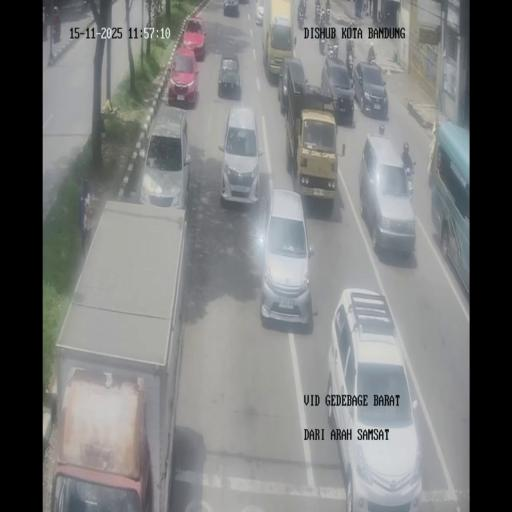3: (51, 196, 188, 506), (262, 0, 294, 81)
car: (327, 288, 421, 500), (260, 188, 314, 327), (359, 132, 416, 256), (430, 121, 469, 300), (140, 105, 191, 210), (219, 104, 262, 207), (296, 110, 338, 204), (321, 55, 354, 122), (354, 61, 389, 119), (168, 48, 200, 108), (278, 58, 306, 120), (182, 16, 207, 61), (217, 52, 241, 98), (223, 0, 239, 17), (255, 0, 264, 26)
truck: (402, 158, 416, 197), (297, 0, 307, 27), (346, 54, 354, 79), (319, 5, 328, 27), (319, 32, 327, 55), (331, 38, 339, 60), (368, 44, 376, 64), (362, 0, 368, 17), (377, 10, 383, 23), (386, 10, 391, 24)
